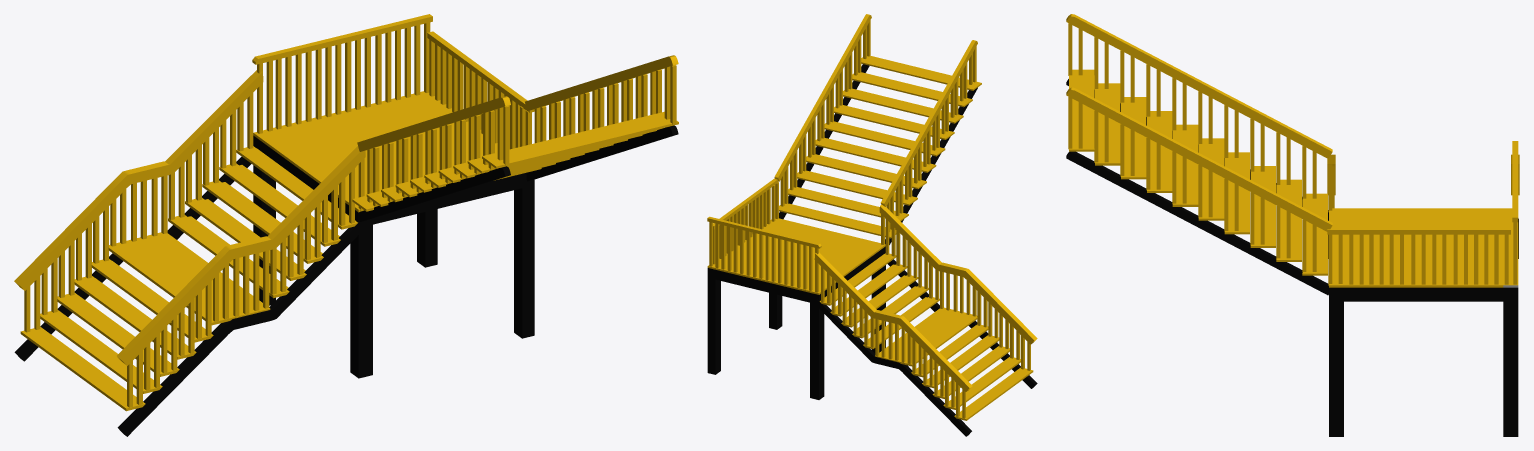
File: big_stairs_low.fbx
The picture shows the model from 3 angles, left to right: view 1: azimuth 30°, elevation 25°; view 2: azimuth 150°, elevation 25°; view 3: azimuth 270°, elevation 25°; orthographic projection. The views are drawn at different scales.
Visible parts, largest first — view 1: stairs; view 2: stairs; view 3: stairs.
Part boxes in pixels (x1=…): stairs: x1=14, y1=14, x2=678, y2=436; stairs: x1=707, y1=14, x2=1037, y2=436; stairs: x1=1066, y1=14, x2=1519, y2=436.
Size of the model in its own units: 16.9 by 15.03 by 17.8.
